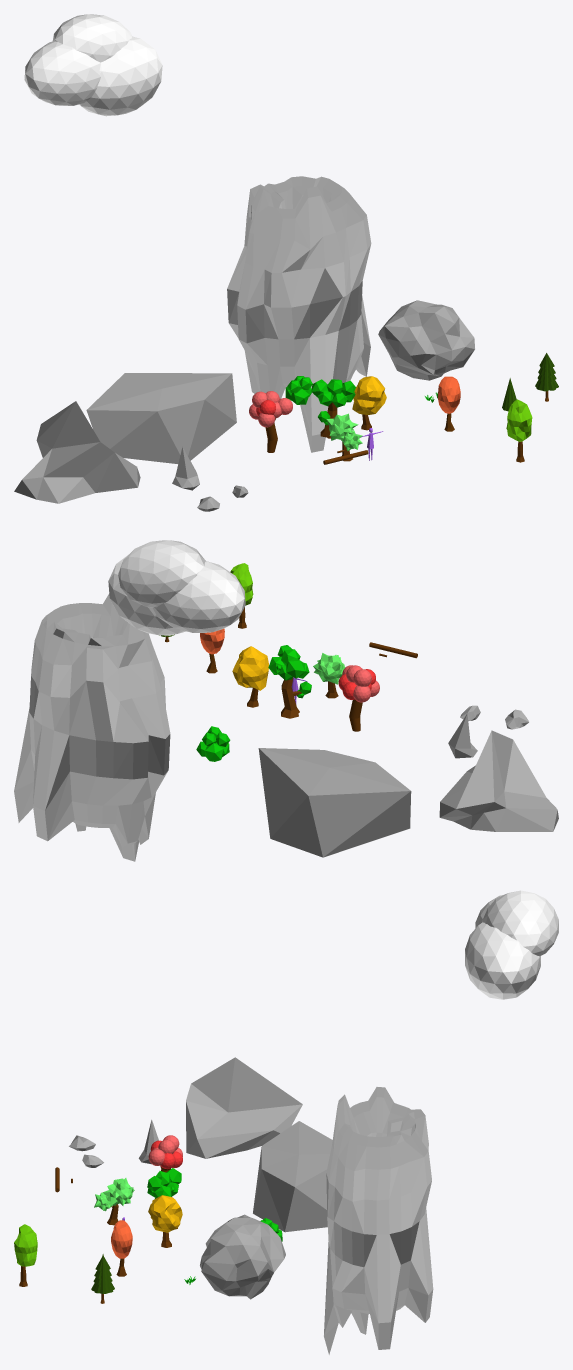
Rendered from Low poly pack.fbx.
3 renders of one model, top to bottom at view 1: azimuth 30°, elevation 25°; view 2: azimuth 150°, elevation 25°; view 3: azimuth 270°, elevation 25°, orthographic. The views are drawn at different scales.
Visible parts, largest first — view 1: Component_30_1, Component_28_1, Component_24_1, Component_5_1, Component_31_1, Component_31_2, Component_31_3, Component_3_1, Component_25_1, Component_23_1, Component_27_1; view 2: Component_30_1, Component_28_1, Component_24_1, Component_31_2, Component_31_3, Component_31_1, Component_3_1, Component_27_1, Component_34_2, Component_1_1, Component_25_1, Component_23_1; view 3: Component_30_1, Component_24_1, Component_28_1, Component_5_1, Component_31_1, Component_31_3, Component_3_1, Component_25_1, Component_23_1, Component_34_2.
Part boxes in pixels (bbox=[...]): Component_30_1: bbox=[227, 176, 371, 452]; Component_28_1: bbox=[86, 373, 236, 463]; Component_24_1: bbox=[14, 401, 140, 503]; Component_5_1: bbox=[378, 300, 474, 380]; Component_31_1: bbox=[79, 36, 162, 116]; Component_31_2: bbox=[24, 41, 100, 105]; Component_31_3: bbox=[52, 14, 131, 62]; Component_3_1: bbox=[352, 376, 386, 414]; Component_25_1: bbox=[506, 399, 532, 441]; Component_23_1: bbox=[437, 376, 460, 413]; Component_27_1: bbox=[172, 447, 199, 490]; Component_30_1: bbox=[14, 593, 170, 861]; Component_28_1: bbox=[258, 748, 411, 857]; Component_24_1: bbox=[439, 730, 558, 831]; Component_31_2: bbox=[153, 561, 245, 632]; Component_31_3: bbox=[118, 540, 205, 607]; Component_31_1: bbox=[108, 554, 186, 635]; Component_3_1: bbox=[232, 646, 268, 690]; Component_27_1: bbox=[448, 713, 477, 758]; Component_34_2: bbox=[313, 653, 343, 684]; Component_1_1: bbox=[281, 677, 301, 718]; Component_25_1: bbox=[230, 563, 253, 605]; Component_23_1: bbox=[200, 628, 224, 654]; Component_30_1: bbox=[324, 1087, 433, 1354]; Component_24_1: bbox=[186, 1057, 302, 1158]; Component_28_1: bbox=[253, 1121, 332, 1232]; Component_5_1: bbox=[200, 1214, 285, 1299]; Component_31_1: bbox=[465, 922, 540, 999]; Component_31_3: bbox=[482, 890, 558, 956]; Component_3_1: bbox=[148, 1195, 182, 1232]; Component_25_1: bbox=[14, 1224, 37, 1266]; Component_23_1: bbox=[111, 1220, 132, 1258]; Component_34_2: bbox=[102, 1178, 134, 1205].
Size of the model in its own units: 379 by 302 by 379.
